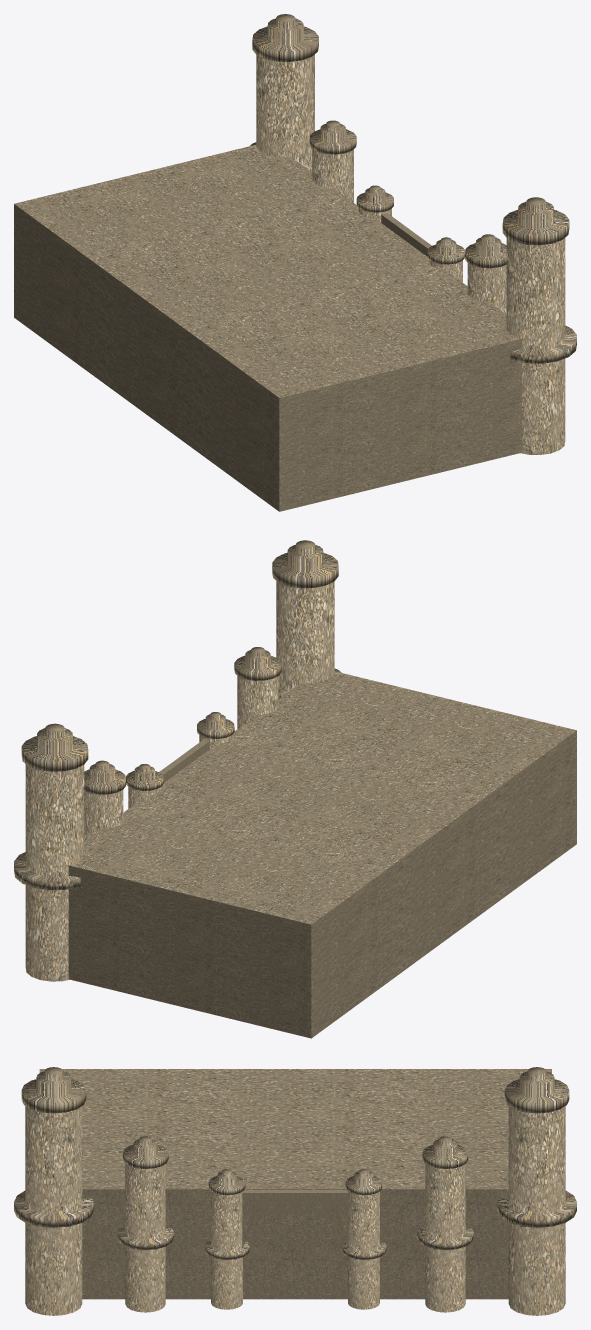
The model's file is castillo.dae.
3 renders of one model, top to bottom at view 1: azimuth 30°, elevation 25°; view 2: azimuth 150°, elevation 25°; view 3: azimuth 270°, elevation 25°, orthographic. The views are drawn at different scales.
Visible parts, largest first — view 1: CASTILLO; view 2: CASTILLO; view 3: CASTILLO.
Boxes of the visible parts, box(x1,y1,x2,y2) form: CASTILLO: box(14, 14, 576, 511); CASTILLO: box(14, 540, 576, 1038); CASTILLO: box(14, 1067, 576, 1315).
Bounding box in the file's own units: 4880 × 8224 × 3756.
1 material, 1 textured.
